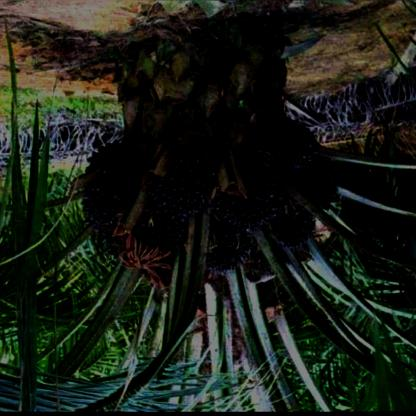palm-oil: (151, 143, 214, 214), (80, 162, 136, 224), (291, 152, 338, 212), (258, 120, 313, 171), (244, 147, 288, 207), (202, 228, 252, 274), (215, 192, 269, 224), (140, 215, 188, 250), (274, 207, 314, 247)
